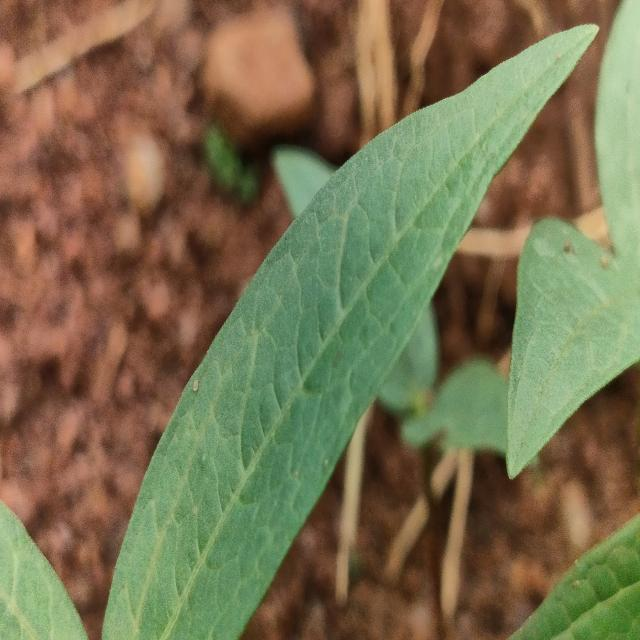Black gram_healthy: (95, 25, 598, 637)
